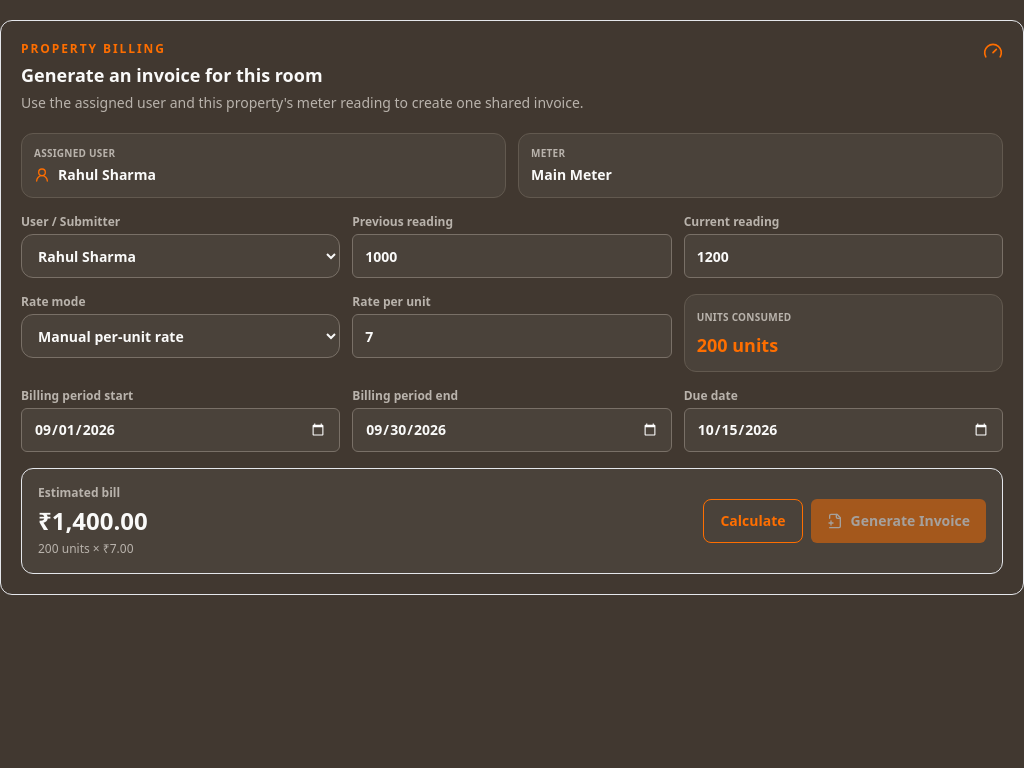
PropertyBilling › keeps a manually edited rate and recalculates without resetting readings
Step 1. Replace the text in the field labelled "Rate per unit" with "8" → [512, 336], box [352,314,672,358]
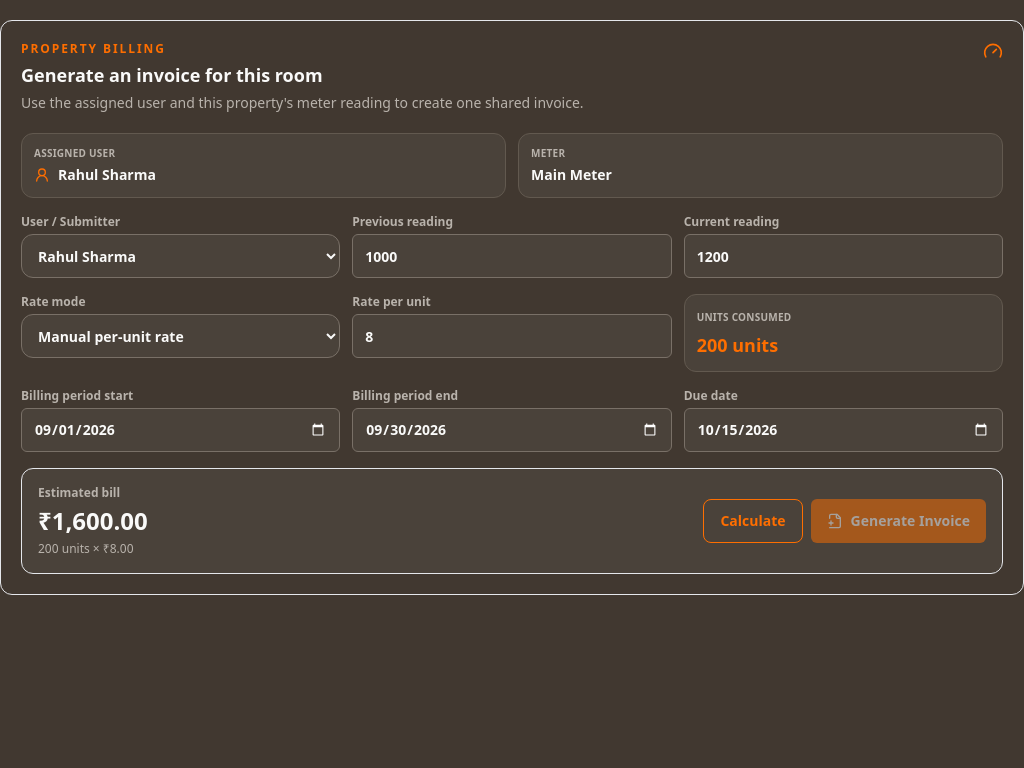
Expected: the field labelled "Previous reading" holds "1000", [352,234,672,278]
Expected: the text "₹1,600.00" is shown, [38,505,148,537]
Step 2. Replace the text in the field labelled "Current reading" with "1250" → [843, 256], box [684,234,1003,278]
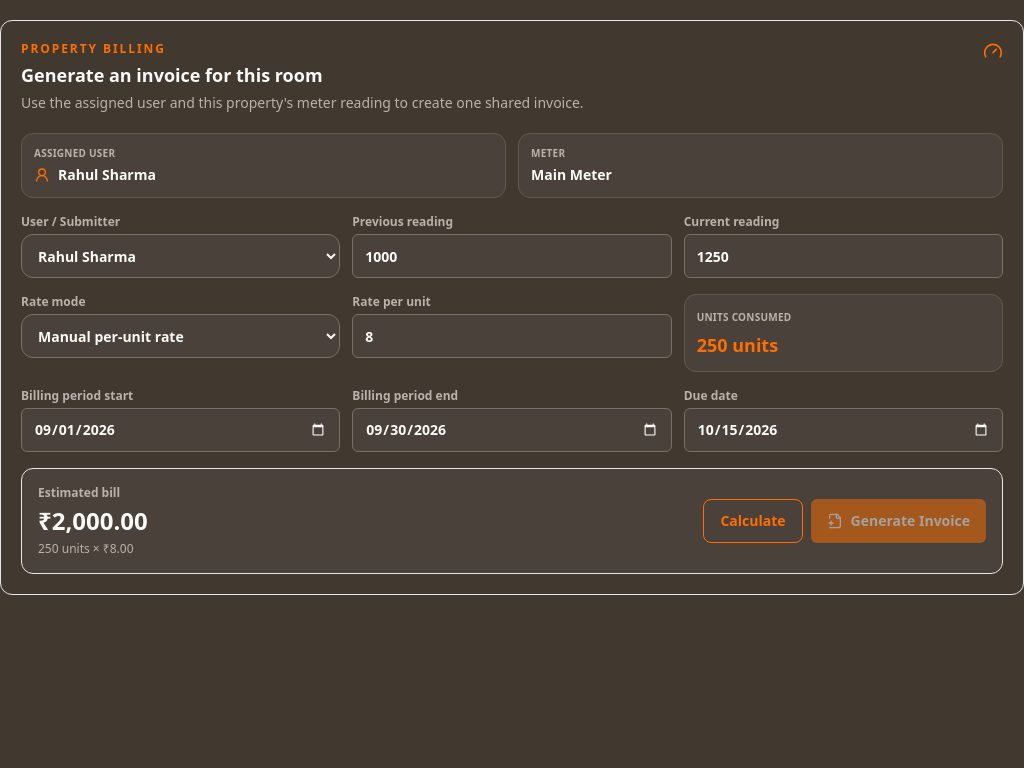
Expected: the text "₹2,000.00" is shown, [38,505,148,537]
